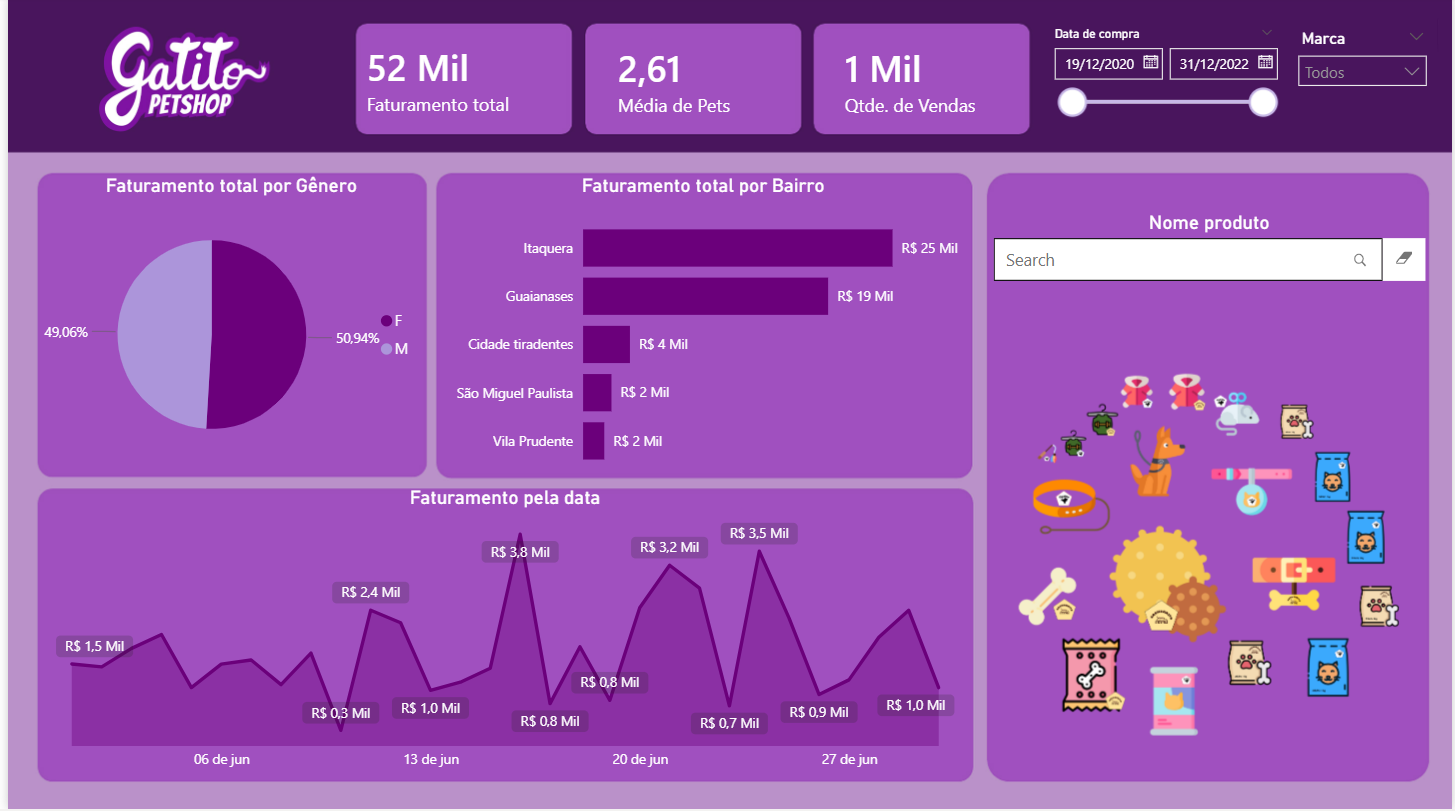

The page's visual inventory and layout, read from the dashboard file:
{"tool":"powerbi","page":{"name":"Página 1","canvas":[1280,720],"ordinal":0},"visuals":[{"type":"cardVisual","fields":{"Data":["Avg(Clientes banco de dados.Pets)"]},"box":[511.2,24.2,194.6,98.6],"z":0},{"type":"cardVisual","fields":{"Data":["Sum(vendas.Quantidade)"]},"box":[713.3,24.2,218.8,98.6],"z":1000},{"type":"cardVisual","fields":{"Data":["vendas.Faturamento total"]},"box":[289,22.6,213.8,100.2],"z":2000},{"type":"pieChart","fields":{"Category":["Clientes banco de dados.Gênero"],"Y":["vendas.Faturamento total"]},"box":[26.7,157,343.3,265.6],"z":3000},{"type":"clusteredBarChart","fields":{"Category":["Clientes banco de dados.Bairro"],"Y":["vendas.Faturamento total"]},"box":[384.2,157,465.2,276.5],"z":4000},{"type":"areaChart","title":"Faturamento pela data","fields":{"Category":["vendas.Data de compra.Variation.Hierarquia de datas.Ano","vendas.Data de compra.Variation.Hierarquia de datas.Trimestre","vendas.Data de compra.Variation.Hierarquia de datas.Mês","vendas.Data de compra.Variation.Hierarquia de datas.Dia"],"Y":["vendas.Faturamento total"]},"box":[26.7,433.5,828.6,260.6],"z":5000},{"type":"ImageGrid_FC5183B9_926C_45E0_B5F7_0CE9EAF1DA9B","fields":{"ImageURL":["Produtos.Url img"]},"box":[868.7,279,392.6,430.2],"z":6000},{"type":"textFilter25A4896A83E0487089E2B90C9AE57C8A","fields":{"field":["Produtos.Nome produto"]},"box":[868.7,189.6,392.6,89.4],"z":7000},{"type":"slicer","fields":{"Values":["Produtos.Marca"]},"box":[1134.3,24.2,133.6,64.3],"z":8000},{"type":"slicer","fields":{"Values":["vendas.Data de compra"]},"box":[915.5,20.9,218.8,96.9],"z":9000},{"type":"shape","box":[6.7,7.5,67.7,122.8],"z":10000}]}

Visuals, with their boxes in screenshot pixels (x1, y1, x2, y2), scaled from the page's 1280x720 canvas onto the 1455x811 screenshot:
cardVisual - Avg(Clientes banco de dados.Pets): locate(581, 27, 802, 138)
cardVisual - Sum(vendas.Quantidade): locate(811, 27, 1060, 138)
cardVisual - vendas.Faturamento total: locate(329, 25, 572, 138)
pieChart - Clientes banco de dados.Gênero x vendas.Faturamento total: locate(30, 177, 421, 476)
clusteredBarChart - Clientes banco de dados.Bairro x vendas.Faturamento total: locate(437, 177, 966, 488)
"Faturamento pela data" areaChart: locate(30, 488, 972, 782)
ImageGrid_FC5183B9_926C_45E0_B5F7_0CE9EAF1DA9B - Produtos.Url img: locate(987, 314, 1434, 799)
textFilter25A4896A83E0487089E2B90C9AE57C8A - Produtos.Nome produto: locate(987, 214, 1434, 314)
slicer - Produtos.Marca: locate(1289, 27, 1441, 100)
slicer - vendas.Data de compra: locate(1041, 24, 1289, 133)
shape: locate(8, 8, 85, 147)
